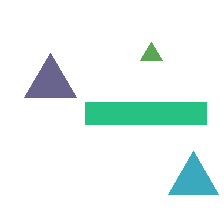rectangle: (85, 102, 206, 124)
triangle: (24, 53, 76, 97), (168, 151, 218, 194), (140, 42, 162, 60)
